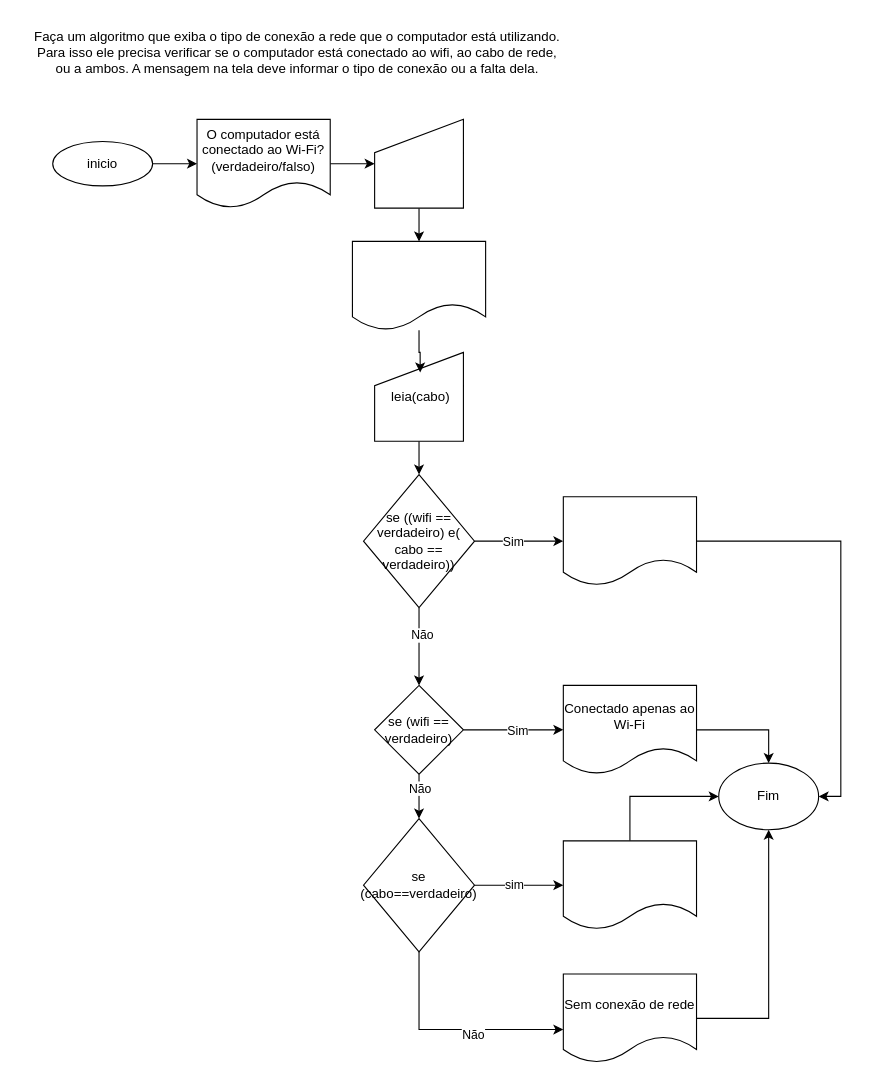
Image size: 869x1082. Some labels were removed from this diagram. The centre of each missing label's shape, as x and y in pixels:
Conectado ao Wi-Fi e ao Cabo de rede: [629,541]
Conectado apenas ao Cabo de rede: [629,885]
leia(wifi): [418,163]
O computador está conectado ao Cabo de rede? (verdadeiro/falso): [418,285]
